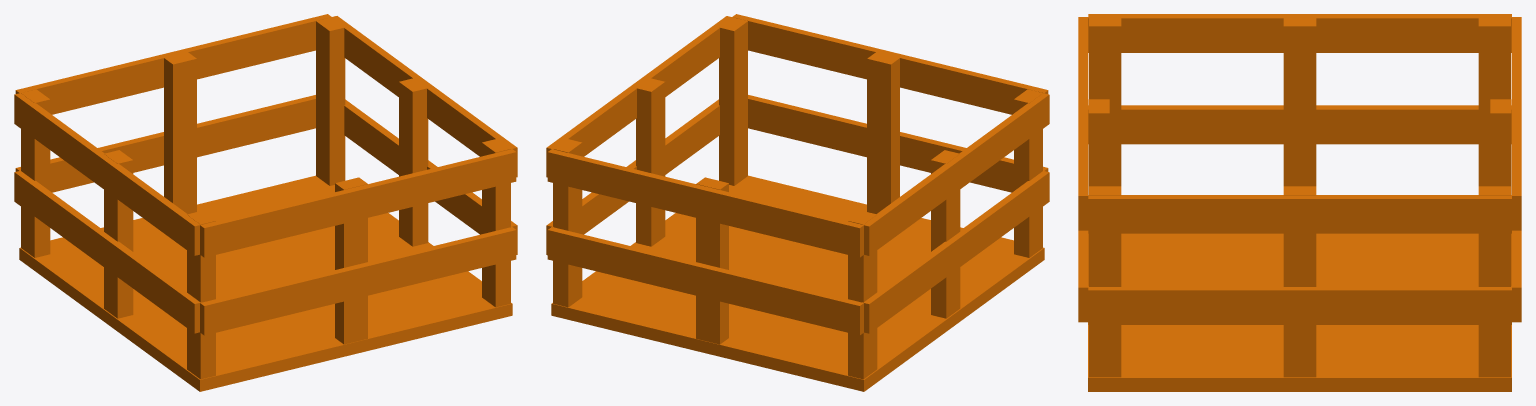
The model's file is chest.fbx.
3 views of the same model, side by side, from view 1: azimuth 30°, elevation 25°; view 2: azimuth 150°, elevation 25°; view 3: azimuth 270°, elevation 25° (orthographic). The views are drawn at different scales.
Visible parts, largest first — view 1: Cube; view 2: Cube; view 3: Cube.
Boxes of the visible parts, bbox=[...] form: Cube: bbox=[14, 14, 517, 391]; Cube: bbox=[546, 14, 1049, 391]; Cube: bbox=[1078, 14, 1521, 391].
Size of the model in its own units: 142 by 69.95 by 143.
